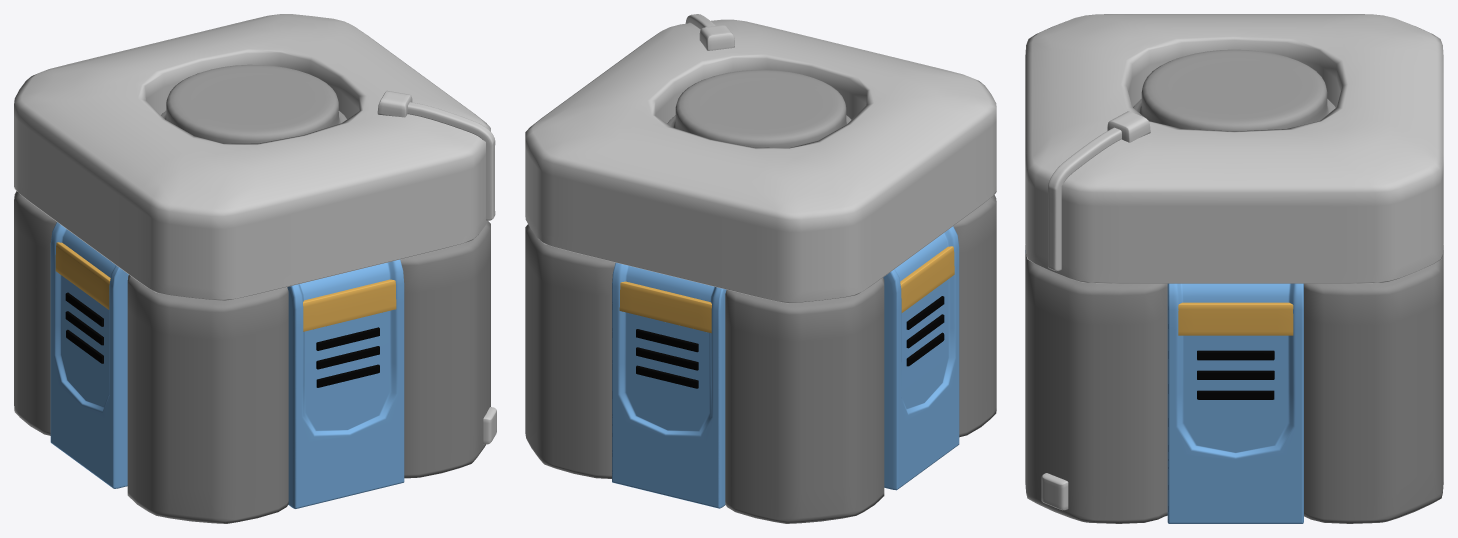
File: OverwatchLootbox.fbx
The picture shows the model from 3 angles, left to right: view 1: azimuth 30°, elevation 25°; view 2: azimuth 150°, elevation 25°; view 3: azimuth 270°, elevation 25°; orthographic projection. The views are drawn at different scales.
Parts seen in each view (by area): view 1: LootBox_GEO; view 2: LootBox_GEO; view 3: LootBox_GEO.
Part boxes in pixels (x1,y1,x2,y2): LootBox_GEO: (14,14,496,523); LootBox_GEO: (525,14,996,523); LootBox_GEO: (1025,14,1443,523).
Size of the model in its own units: 100 by 97.72 by 100.
